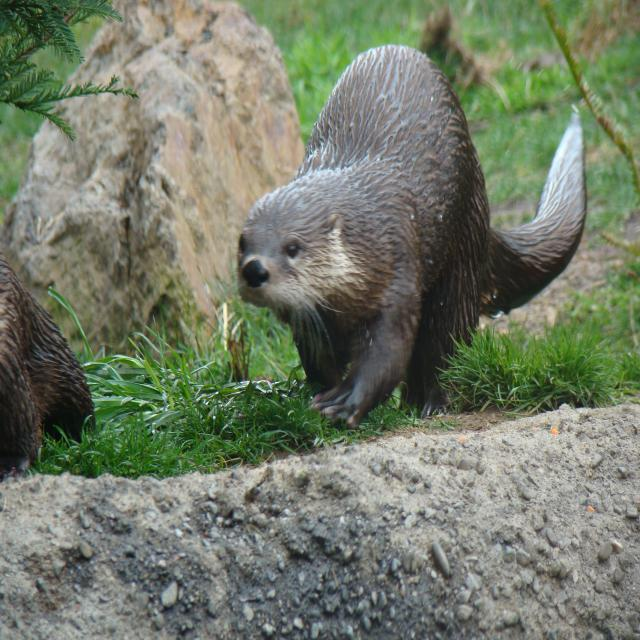otter: (239, 48, 589, 429)
